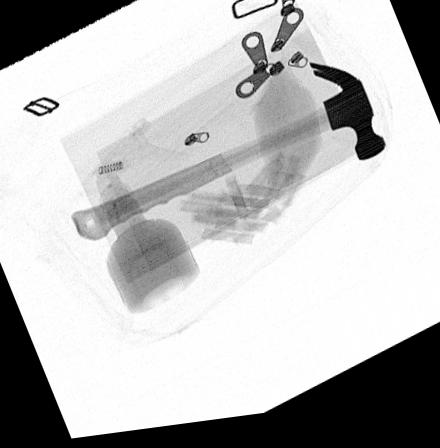Hammer: (68, 69, 385, 243)
